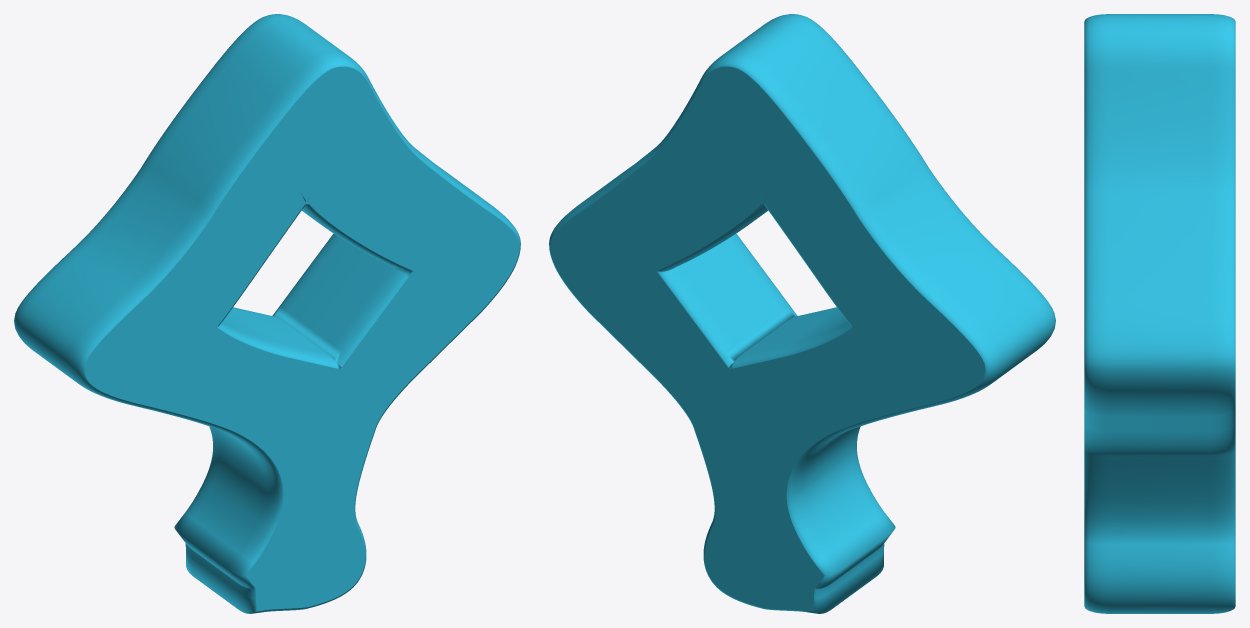
File: rune9.fbx
3 renders of one model, left to right at view 1: azimuth 30°, elevation 25°; view 2: azimuth 150°, elevation 25°; view 3: azimuth 270°, elevation 25°, orthographic. The views are drawn at different scales.
Visible parts, largest first — view 1: Text; view 2: Text; view 3: Text.
Boxes of the visible parts, box(x1,y1,x2,y2) form: Text: box(14, 14, 520, 613); Text: box(549, 14, 1055, 613); Text: box(1084, 14, 1235, 613).
Size of the model in its own units: 22.44 by 26.14 by 6.
